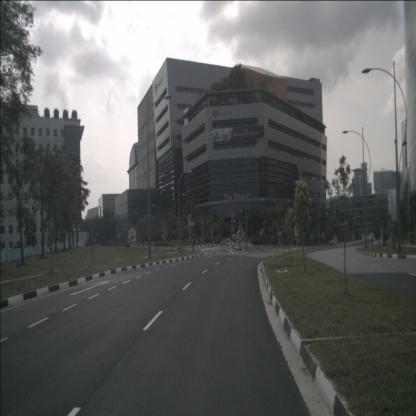vehicle-car: (221, 239, 236, 246), (330, 236, 338, 246)
